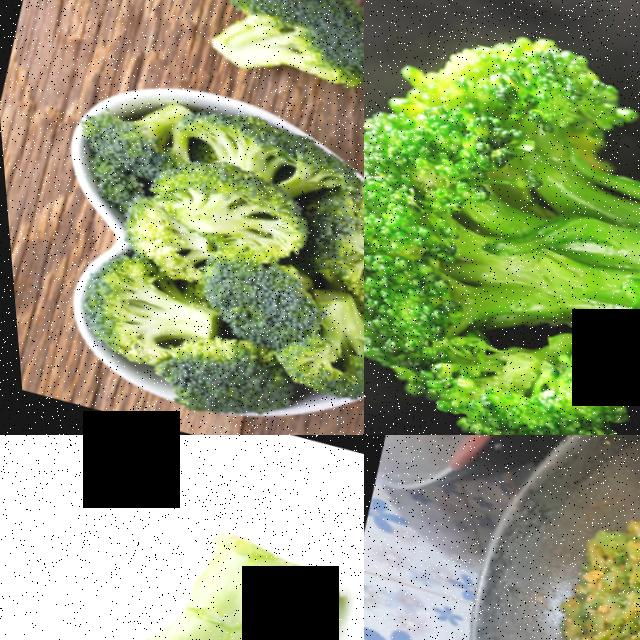broccoli: (364, 0, 640, 435), (0, 435, 364, 640), (144, 0, 364, 126), (123, 145, 299, 274), (178, 228, 338, 367), (64, 240, 195, 363), (154, 343, 283, 430), (66, 75, 172, 172)
